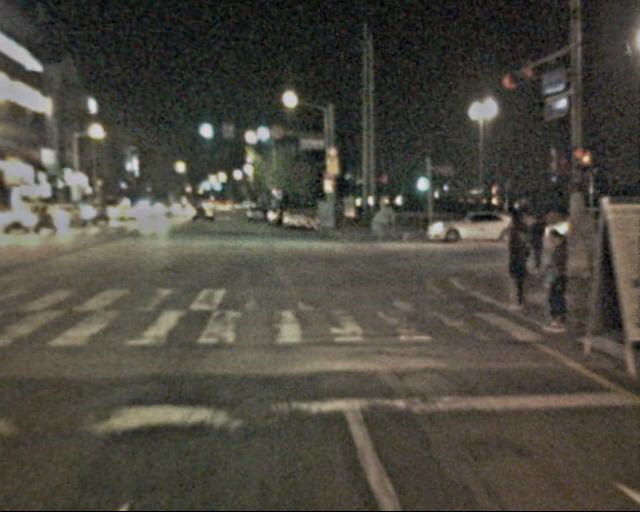person: (530, 229, 579, 336), (496, 213, 538, 315)
